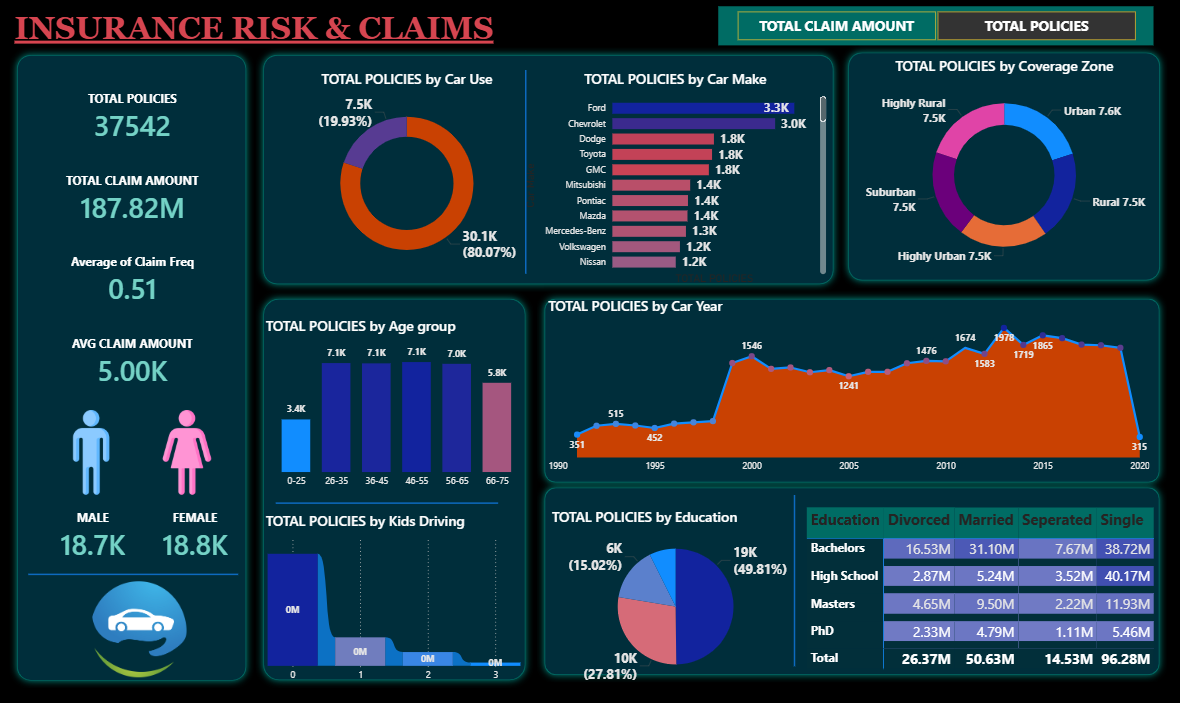

The dashboard page shown, as its layout file describes it:
{"tool":"powerbi","page":{"name":"Page 1","canvas":[1600,950],"ordinal":0},"visuals":[{"type":"textbox","box":[18.5,8.4,688,62.4],"z":0},{"type":"shape","box":[17.5,63.7,329.5,864.4],"z":1000},{"type":"cardVisual","fields":{"Data":["insurance_data_car.TOTAL POLICIES","insurance_data_car.TOTAL CLAIM AMOUNT","Avg(insurance_data_car.Claim Freq)","insurance_data_car.AVG CLAIM AMOUNT"]},"box":[47.2,92.7,271.5,460.4],"z":2000},{"type":"cardVisual","fields":{"Data":["insurance_data_car.MALE","insurance_data_car.FEMALE"]},"box":[68.4,667,259.5,109.8],"z":3000},{"type":"image","box":[68.4,552.4,116.2,114.6],"z":4000},{"type":"image","box":[199,552.4,114.6,114.6],"z":5000},{"type":"slicer","fields":{"Values":["APPLY FILTER.APPLY FILTER"]},"box":[972.6,8,587.4,52.5],"z":6000},{"type":"shape","box":[348.6,63.7,789.5,329.5],"z":7000},{"type":"donutChart","fields":{"Y":["insurance_data_car.TOTAL POLICIES"],"Category":["insurance_data_car.Car Use"]},"box":[382,92.3,340.7,284.9],"z":8000},{"type":"clusteredBarChart","fields":{"Y":["insurance_data_car.TOTAL POLICIES"],"Category":["insurance_data_car.Car Make"]},"box":[706.8,92.3,417.1,296.1],"z":9000},{"type":"shape","box":[1138.2,60.5,440.9,327.9],"z":10000},{"type":"donutChart","fields":{"Y":["insurance_data_car.TOTAL POLICIES"],"Category":["insurance_data_car.Coverage Zone"]},"box":[1158.9,76.4,401.1,296.1],"z":11000},{"type":"shape","box":[348.6,393.2,374.1,534.9],"z":12000},{"type":"clusteredColumnChart","fields":{"Y":["insurance_data_car.TOTAL POLICIES"],"Category":["insurance_data_car.Age group"]},"box":[358.2,426.6,364.5,240.4],"z":13000},{"type":"ribbonChart","fields":{"Y":["insurance_data_car.TOTAL POLICIES"],"Category":["insurance_data_car.Kids Driving"]},"box":[358.2,689.3,356.6,238.8],"z":14000},{"type":"shape","box":[728.5,392.9,849.9,268.1],"z":15000},{"type":"areaChart","fields":{"Y":["insurance_data_car.TOTAL POLICIES"],"Category":["insurance_data_car.Car Year"]},"box":[738.6,399.7,821.3,247.9],"z":16000},{"type":"shape","box":[728.5,647.6,849.9,273.2],"z":17000},{"type":"pieChart","fields":{"Y":["insurance_data_car.TOTAL POLICIES"],"Category":["insurance_data_car.Education"]},"box":[743.7,684.7,344,242.8],"z":18000},{"type":"pivotTable","fields":{"Rows":["insurance_data_car.Education"],"Columns":["insurance_data_car.Marital Status"],"Values":["insurance_data_car.TOTAL CLAIM AMOUNT"]},"box":[1087.7,679.6,490.7,237.8],"z":19000},{"type":"shape","box":[563.2,94.4,300.2,274.9],"z":20000},{"type":"shape","box":[925.8,667.8,300.2,231],"z":21000},{"type":"shape","box":[376.1,541.3,300.2,274.9],"z":22000},{"type":"shape","box":[42.2,721.8,283.3,106.2],"z":23000},{"type":"image","box":[42.2,784.2,300.2,129.8],"z":24000}]}

Visuals, with their boxes in screenshot pixels (x1, y1, x2, y2), scaled from the page's 1600x950 canvas onto the 1180x703 screenshot:
textbox: [14,6,521,52]
shape: [13,47,256,687]
cardVisual - insurance_data_car.TOTAL POLICIES x insurance_data_car.TOTAL CLAIM AMOUNT: [35,69,235,409]
cardVisual - insurance_data_car.MALE x insurance_data_car.FEMALE: [50,494,242,575]
image: [50,409,136,494]
image: [147,409,231,494]
slicer - APPLY FILTER.APPLY FILTER: [717,6,1150,45]
shape: [257,47,839,291]
donutChart - insurance_data_car.TOTAL POLICIES x insurance_data_car.Car Use: [282,68,533,279]
clusteredBarChart - insurance_data_car.TOTAL POLICIES x insurance_data_car.Car Make: [521,68,829,287]
shape: [839,45,1165,287]
donutChart - insurance_data_car.TOTAL POLICIES x insurance_data_car.Coverage Zone: [855,57,1150,276]
shape: [257,291,533,687]
clusteredColumnChart - insurance_data_car.TOTAL POLICIES x insurance_data_car.Age group: [264,316,533,494]
ribbonChart - insurance_data_car.TOTAL POLICIES x insurance_data_car.Kids Driving: [264,510,527,687]
shape: [537,291,1164,489]
areaChart - insurance_data_car.TOTAL POLICIES x insurance_data_car.Car Year: [545,296,1150,479]
shape: [537,479,1164,681]
pieChart - insurance_data_car.TOTAL POLICIES x insurance_data_car.Education: [548,507,802,686]
pivotTable - insurance_data_car.Education x insurance_data_car.Marital Status: [802,503,1164,679]
shape: [415,70,637,273]
shape: [683,494,904,665]
shape: [277,401,499,604]
shape: [31,534,240,613]
image: [31,580,253,676]
